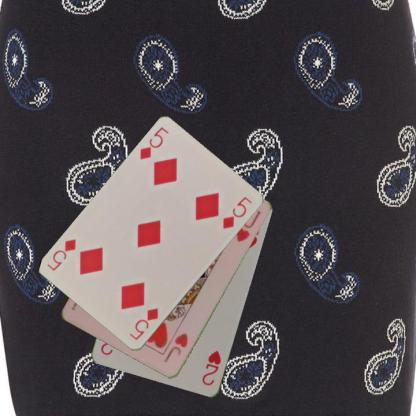2h: (199, 349, 222, 387)
5d: (137, 124, 170, 161), (127, 306, 160, 342)
Jh: (160, 330, 190, 364)
